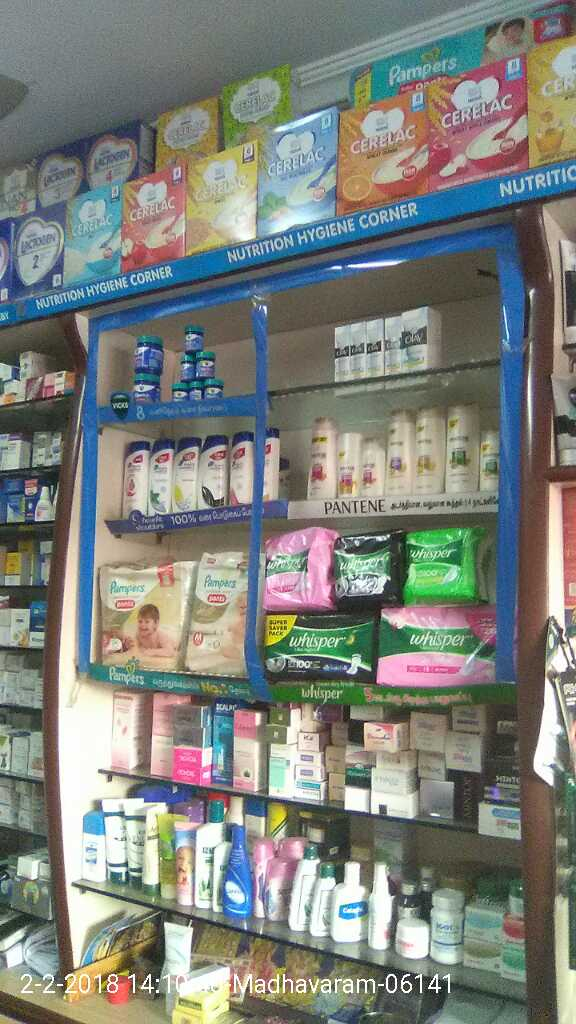vicks: (127, 317, 225, 406)
